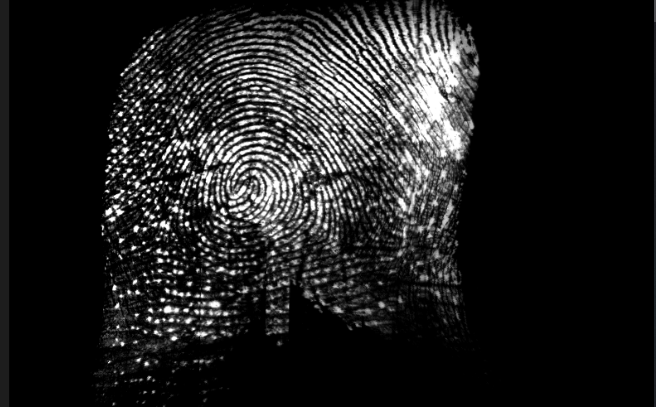nucelo: (219, 162, 256, 201)
verticilo: (315, 228, 350, 249), (141, 248, 167, 276)
